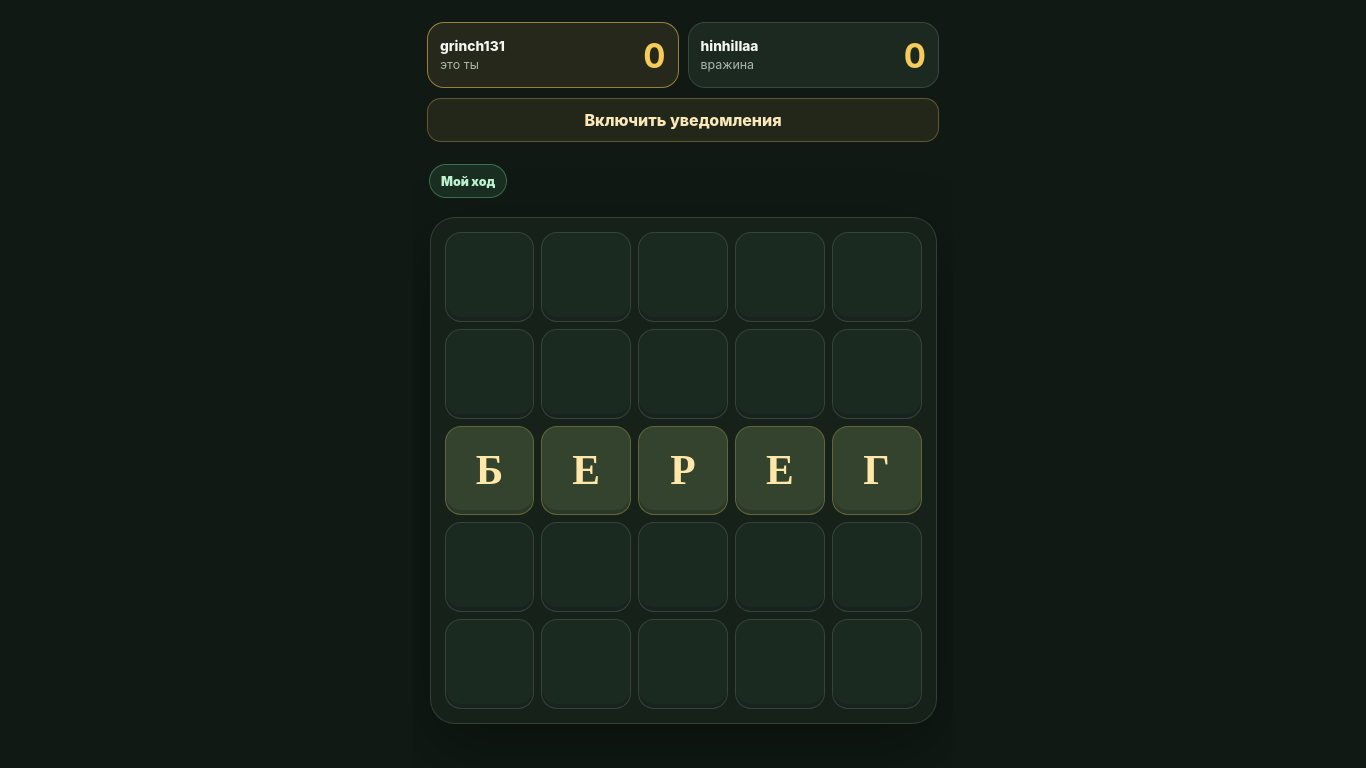
App states and orchestration › replaces a chosen draft when another available cell is pressed
Click the cell named "Пустая клетка 1, 0" at (489, 374), box [444,329,534,419]
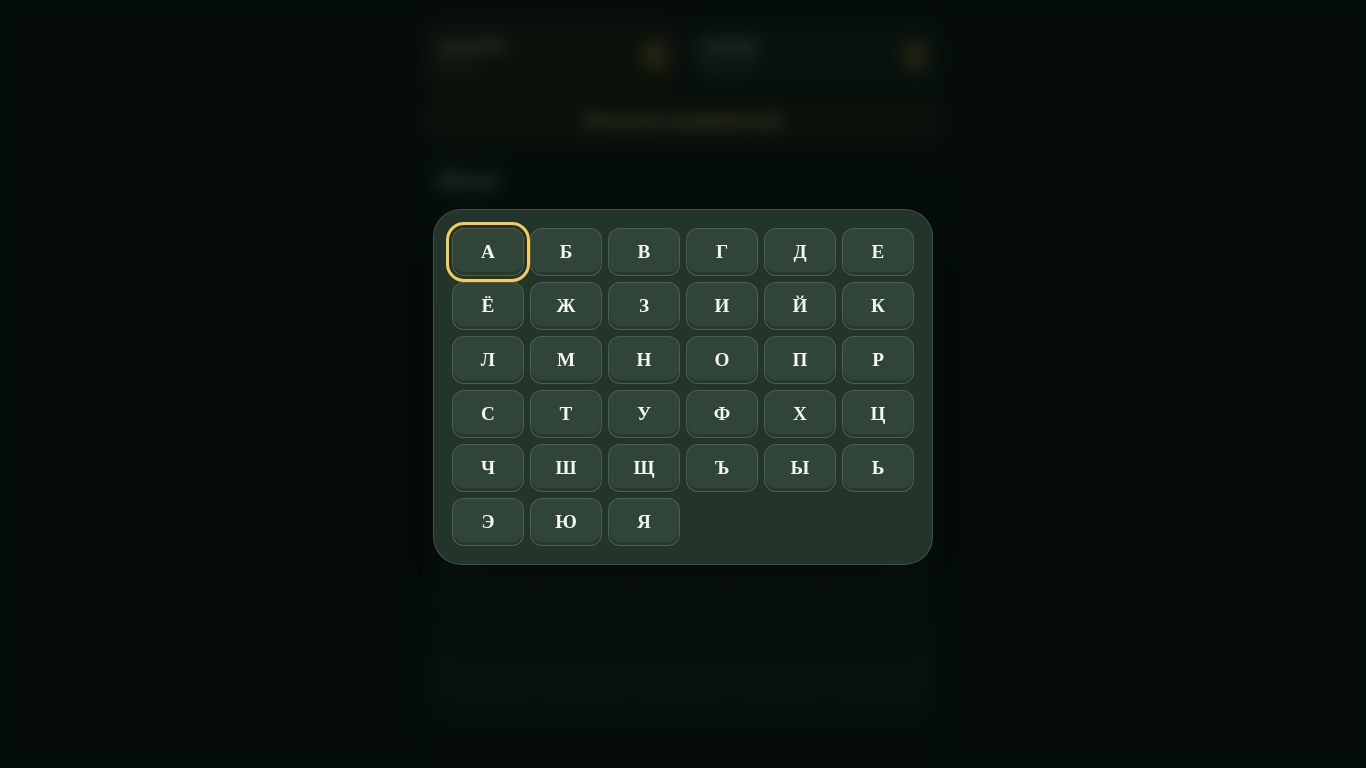
Click the button named "Буква Ё" at (488, 306), box [452,282,524,330]
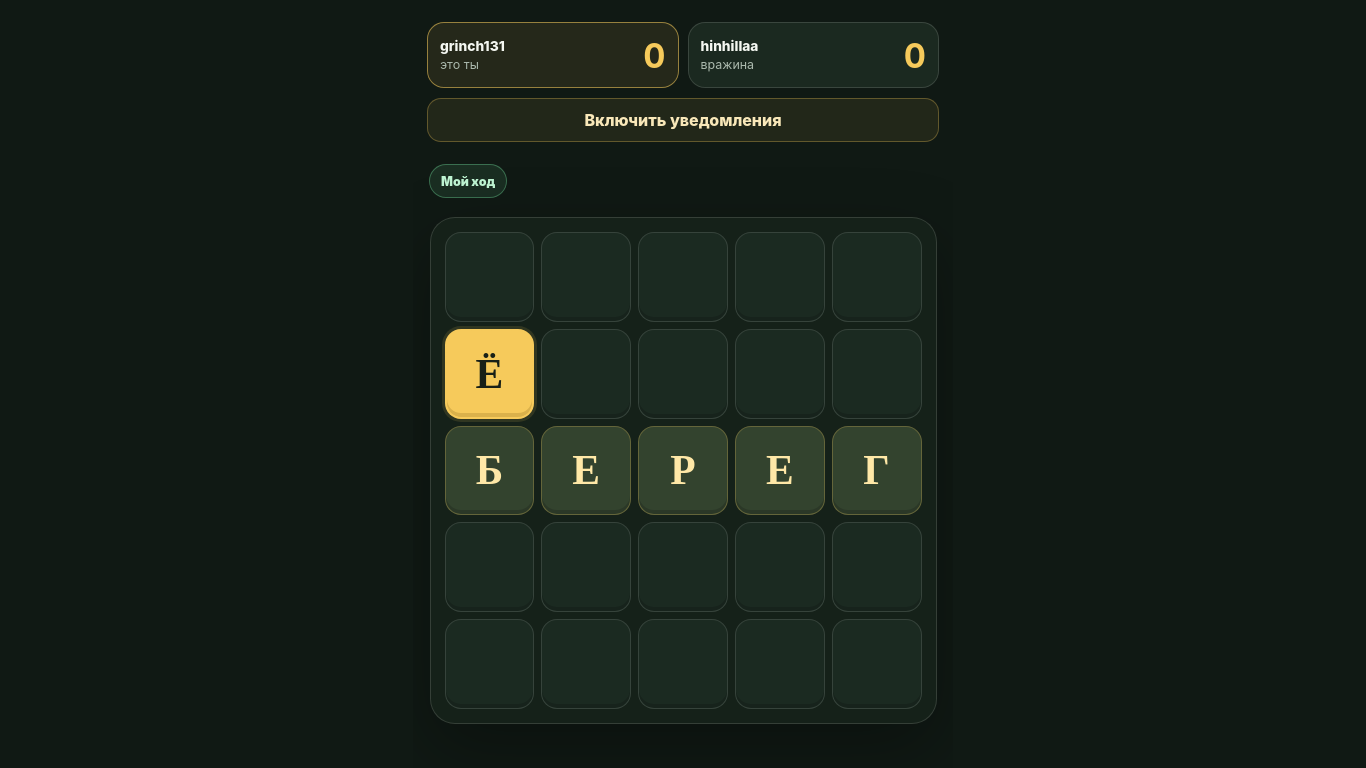
Click the cell named "Пустая клетка 1, 1" at (586, 374), box [541,329,631,419]
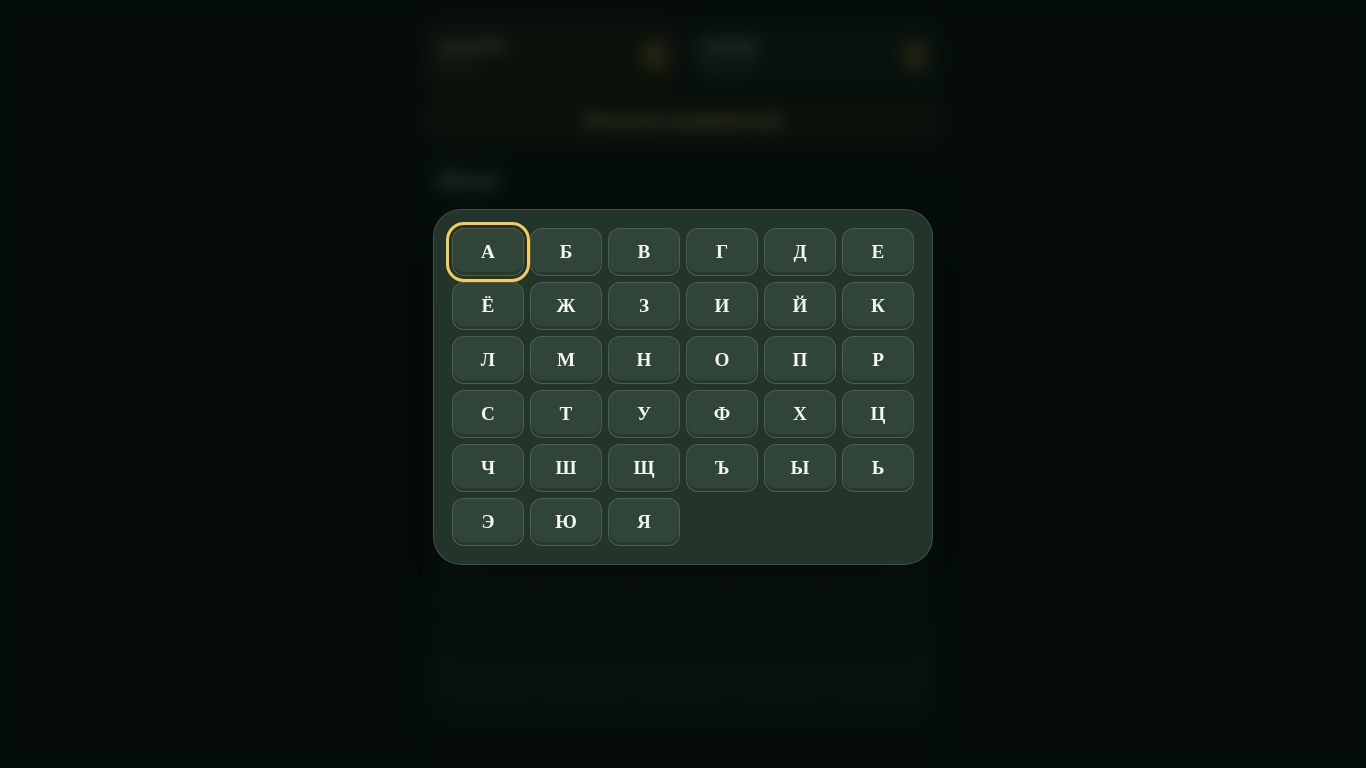
Result: the dialog named "Выбор буквы" is shown at [433,209,933,565]
Result: the cell named "Пустая клетка 1, 0" is shown at [444,329,534,419]
Click the button named "Буква Я" at (644, 522), box [608,498,680,546]
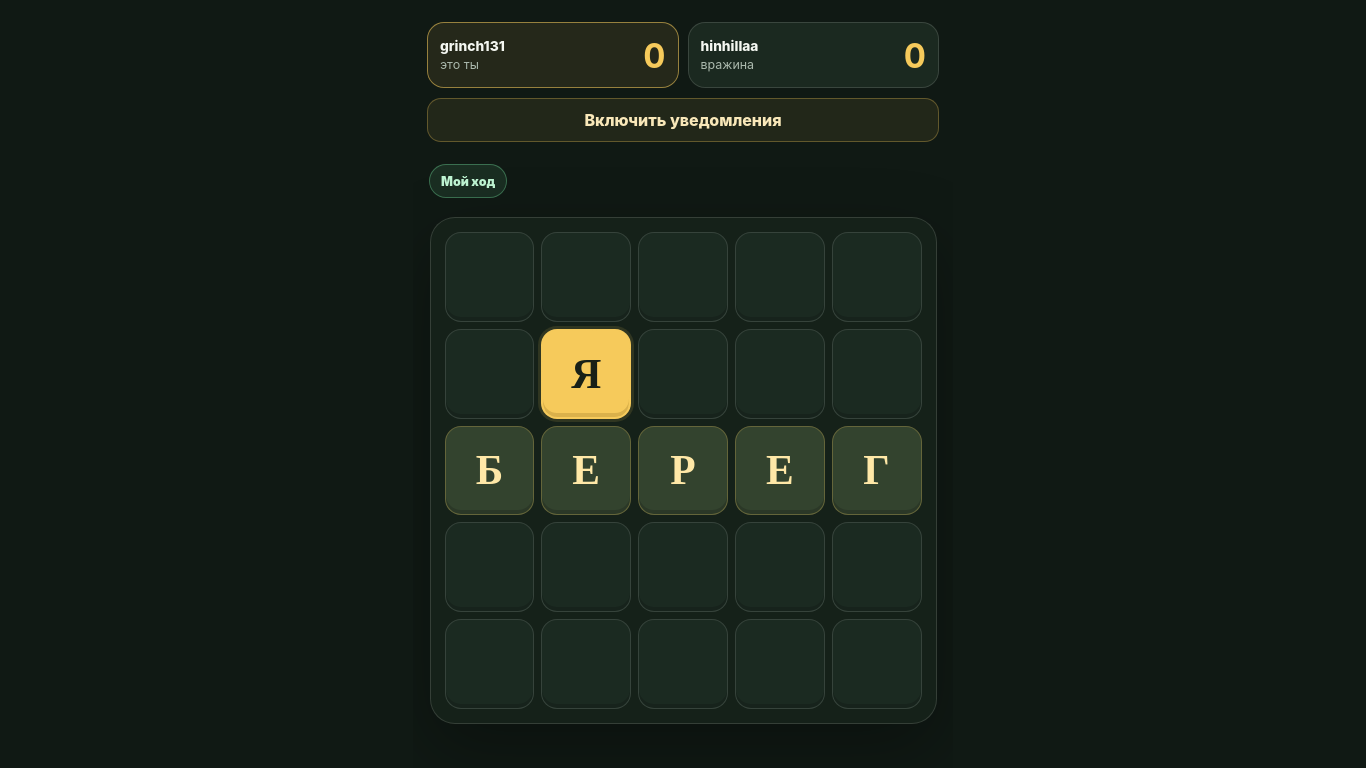
Result: the cell named "Клетка 1, 1, буква Я, черновик" is shown
Click the cell named "Клетка 1, 1, буква Я, черновик" at (586, 374), box [541,329,631,419]
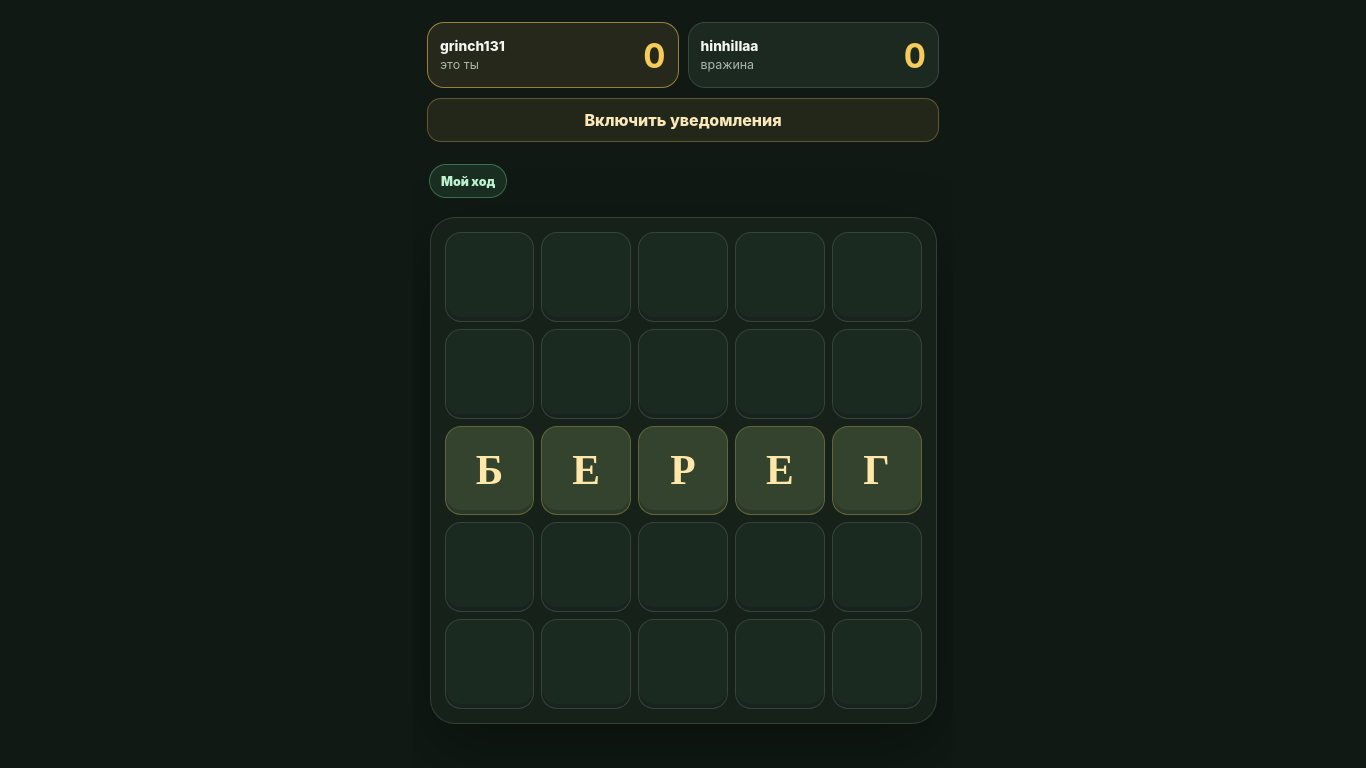
Result: the cell named "Пустая клетка 1, 1" is shown at [541,329,631,419]
